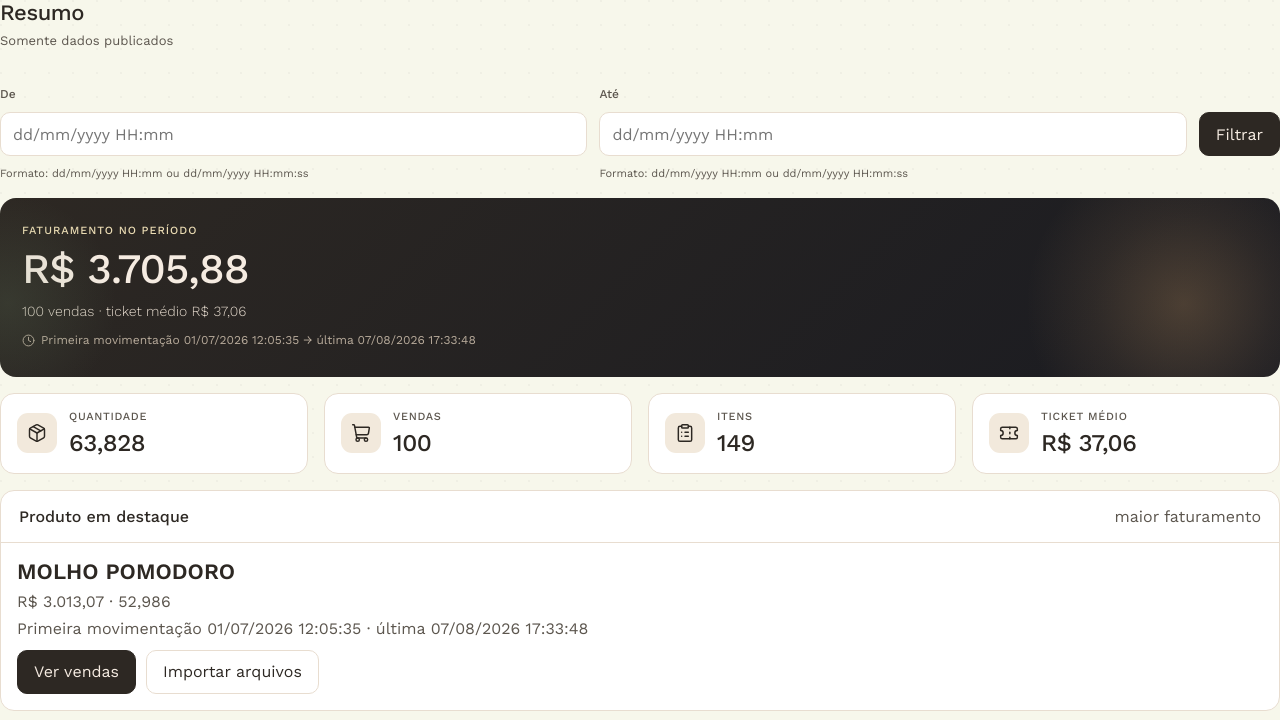
DashboardPage › rejects an inverted range and associates the error with Até
Expected: the text "Faturamento no período" is shown, [22,224,197,237]
In the field labelled "De": (294, 134) [0,112,587,156], type "02/07/2026 00:00"
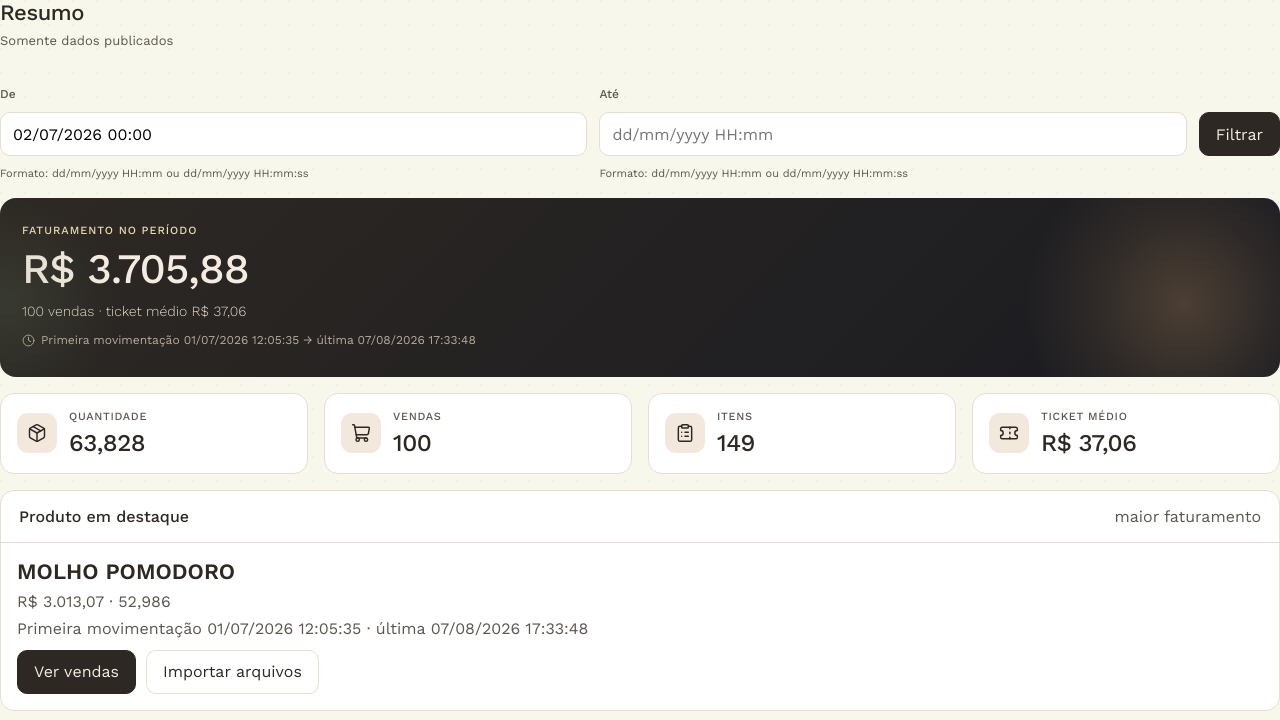
In the field labelled "Até": (893, 134) [599,112,1187,156], type "01/07/2026 23:59"
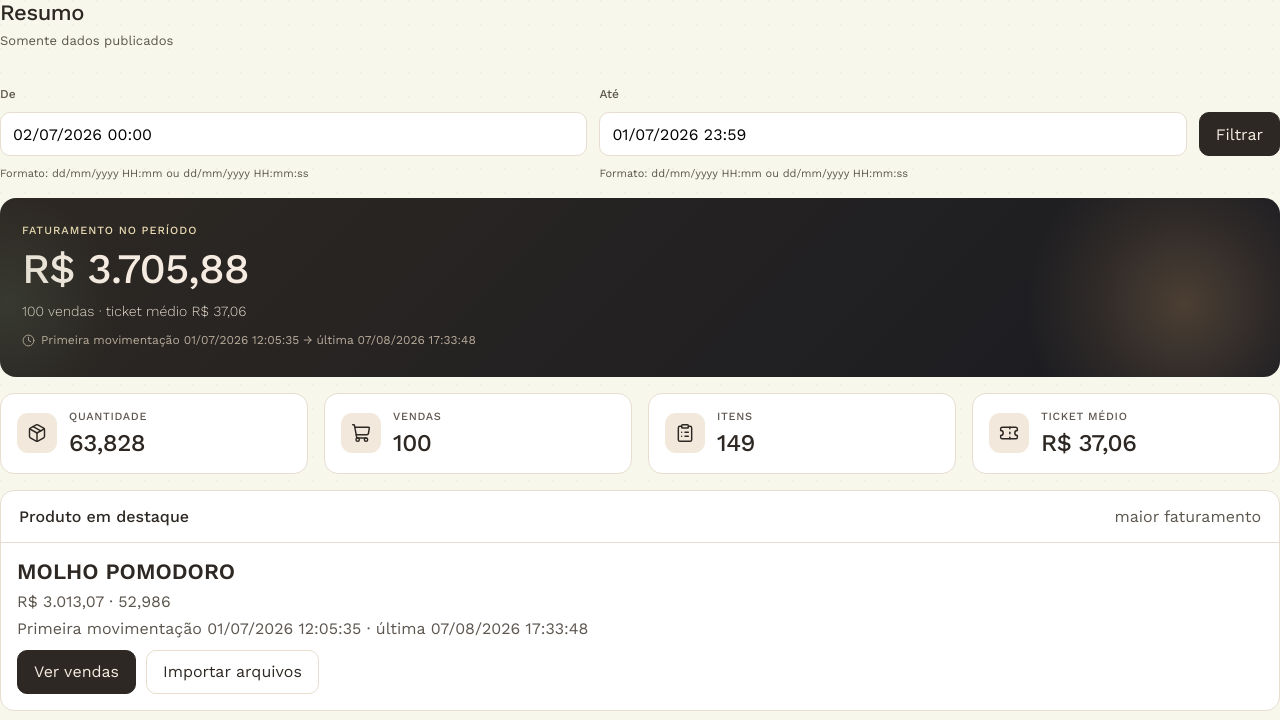
Click the button "Filtrar": (1239, 134) [1199,112,1279,156]
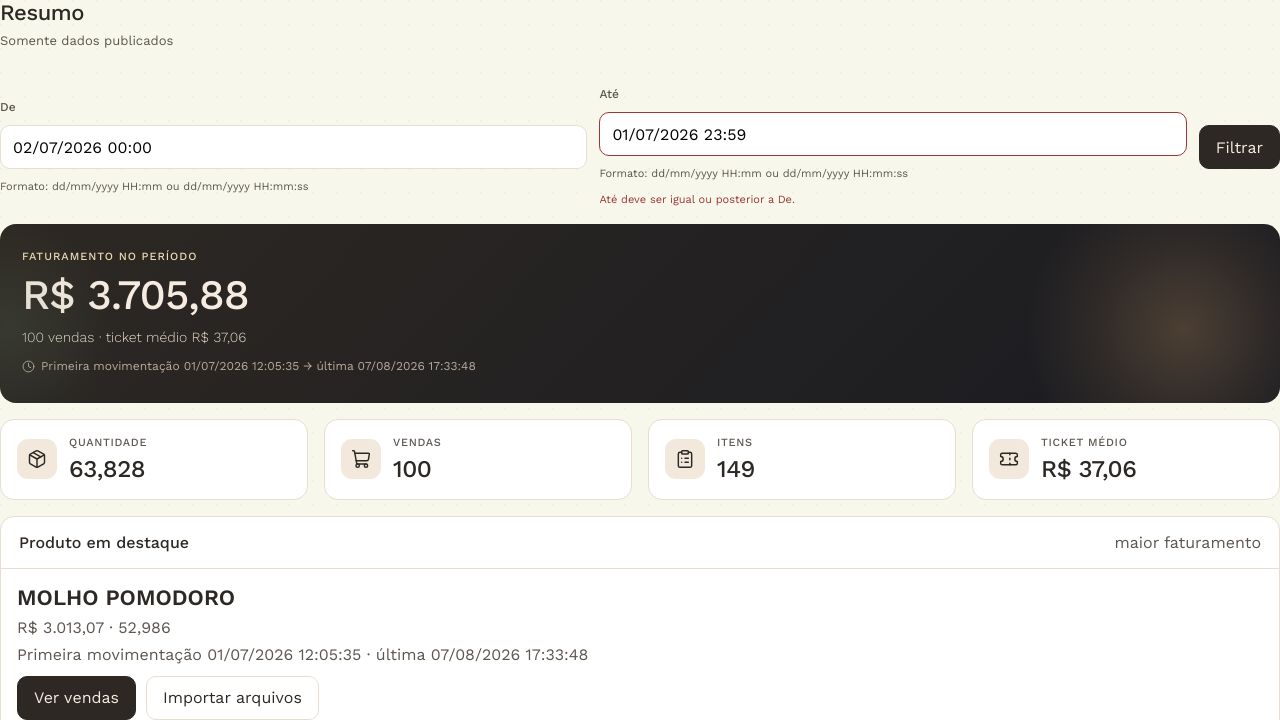
Expected: the text "Até deve ser igual ou posterior a De." is shown, [599,193,795,206]
